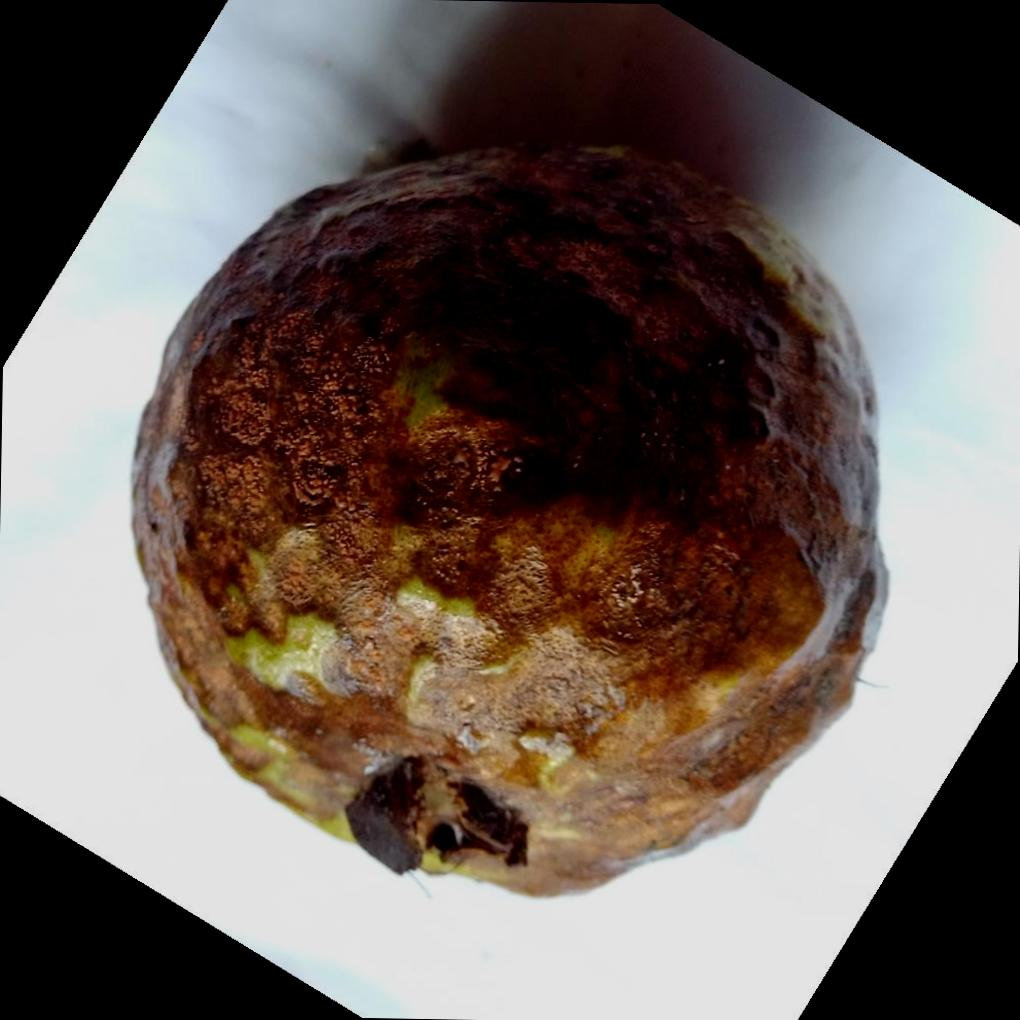FreshOrange: (132, 141, 894, 898)
